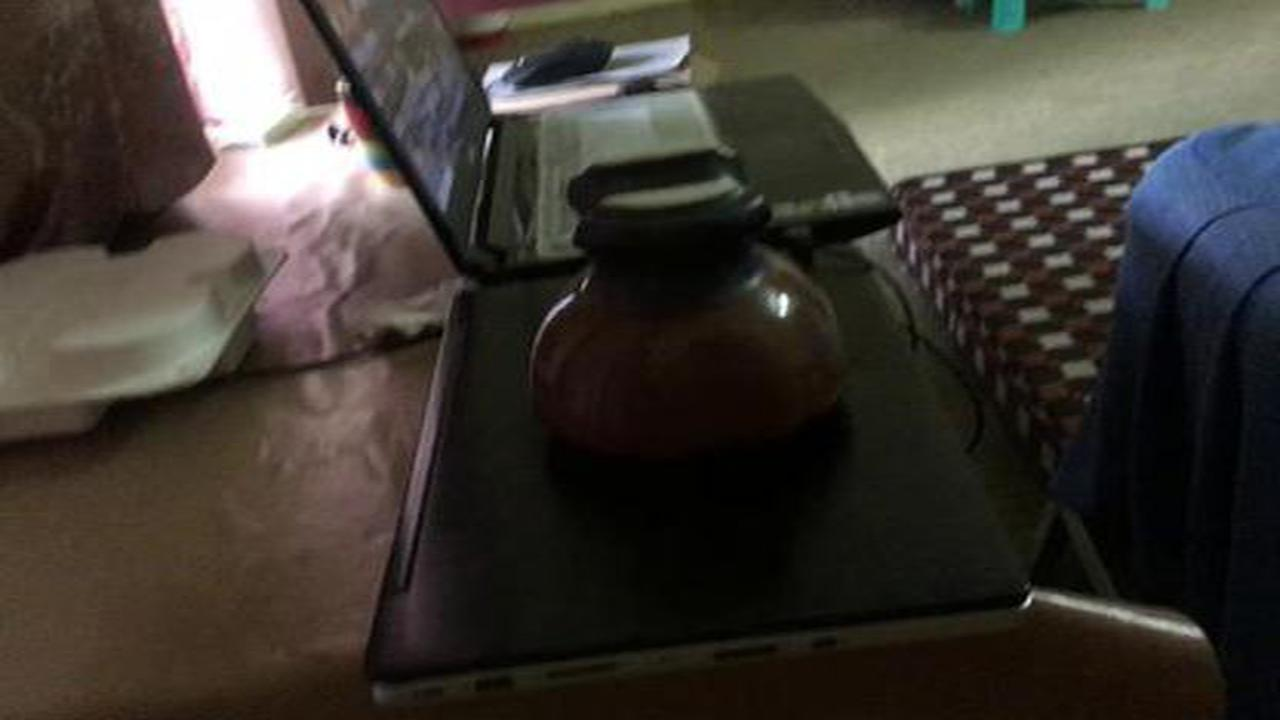insulator_pin: (502, 141, 881, 497)
